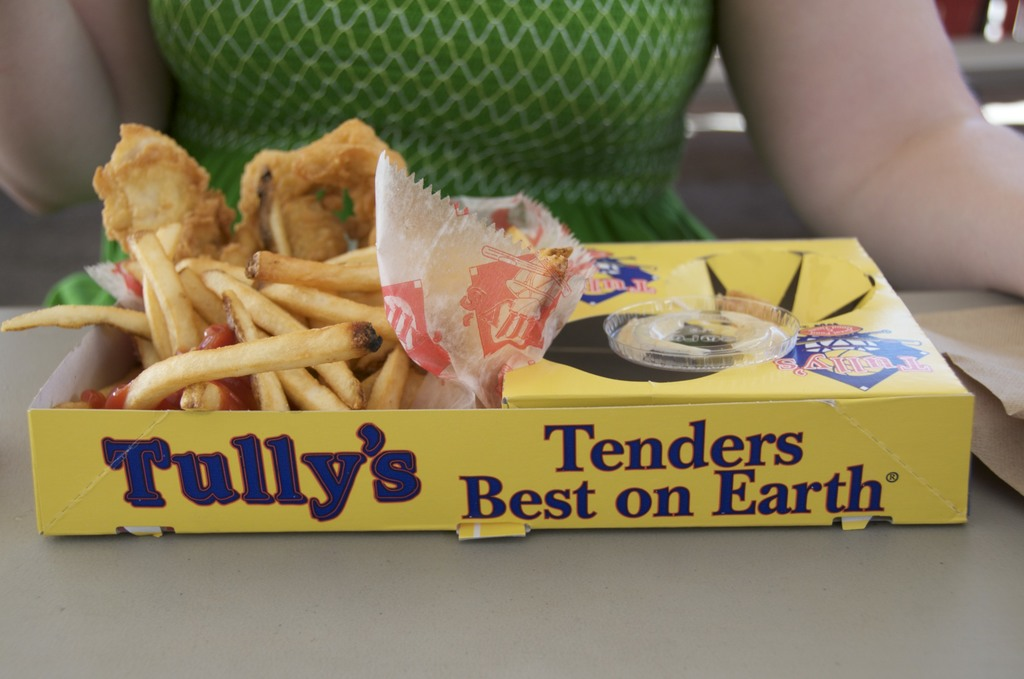French fries: (0, 215, 576, 418)
